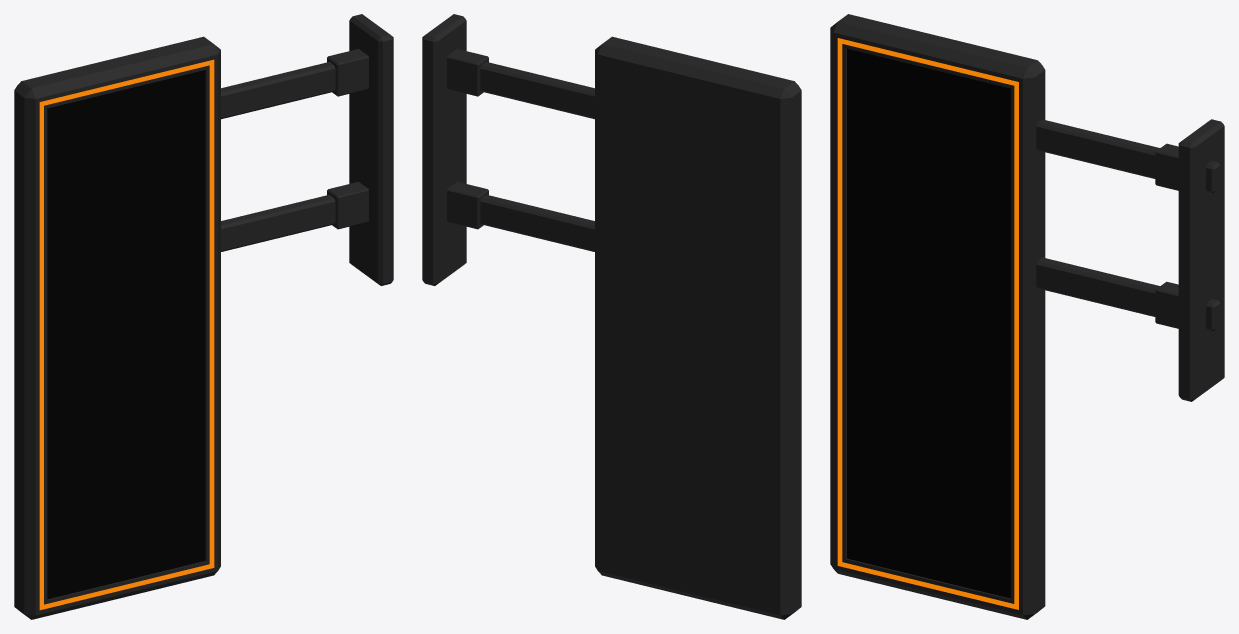
Rendered from Pannel.fbx.
The picture shows the model from 3 angles, left to right: view 1: azimuth 30°, elevation 25°; view 2: azimuth 150°, elevation 25°; view 3: azimuth 330°, elevation 25°; orthographic projection. The views are drawn at different scales.
Visible parts, largest first — view 1: LEDn0000, Body, Holder; view 2: Body, Holder; view 3: LEDn0000, Body, Holder.
Boxes of the visible parts, x1,y1,x2,y2 form: LEDn0000: [47, 70, 205, 599]; Body: [14, 36, 335, 619]; Holder: [327, 14, 393, 285]; Body: [480, 36, 801, 619]; Holder: [422, 14, 488, 285]; LEDn0000: [847, 48, 1010, 598]; Body: [830, 14, 1220, 619]; Holder: [1155, 119, 1224, 401].
Bounding box in the file's own units: 232 × 320 × 35.
